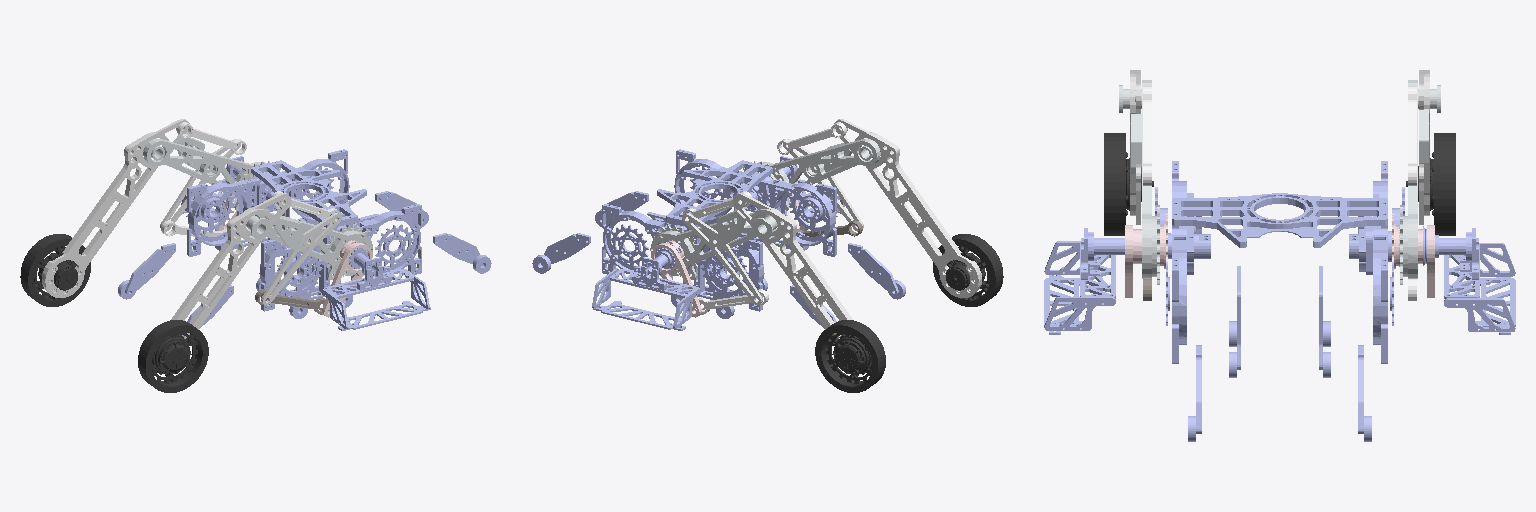
URDF robot description (rl_chassis_v14):
<?xml version='1.0' encoding='utf-8'?>
<!--
  由 tools/align_frame.py 生成，再由 tools/snap_pin_axes.py 把关节轴对齐到销孔，请勿手改；
  原始文件: rl_chassis_v14.urdf（sw2urdf 导出；和 v13 同一套机构、同样趴卧姿态，
  差别是底盘加长、部分零件质量变了，另外多了 4 个底下导轮 + 4 块前后滚轮支撑板）
  整体坐标系旋转对标 infantry_V4（x 前 / y 左 / z 上），坐标映射 (x,y,z)_old -> (-z, x, -y)；
  每个 link 还做了规范重投影：所有 joint axis = (0,0,1)，
  左右镜像体现在 joint origin 的 rpy 上（与 infantry_V4 一致）。

  v14 和 v13 的差别（导出层面 + 处理）：
  1) base_link 的 <inertial> 这次是对的（质心离网格质心 1.36 mm，不像 v13 差 133.6 mm），
     所以 fix-inertial-frame 那步只是确认一下，没有真的旋转；
  2) 有 3 处 <material><color rgba> 被导出成 0~1 之外的数（0.79216 0.81961 200.93333 1、
     200.9 0.91765 0.92941 1），repair_export.py 顺手夹回 0~1（只影响配色，不影响物理）；
  3) 质量：CAD 导出的是 base_link 15.8015 kg、曲柄 0.2169 kg、车轮 0.8041 kg
     （其它 link 与 v13 一致）。这些增量在 CAD 里是"覆盖质量"：质量加了、惯量没重算
     （车轮的惯量张量和 v13 一字不差）。按实机/对齐 COD 覆盖成：
       base_link            -> 11.5 kg   （COD 的底盘是 11 kg，v14 底盘更大所以取 11.5）
       Left/Right_wheel_link -> 0.5 kg   （CAD 里是 0.8041）
     其余保持 CAD 值（曲柄 0.2169 kg 等）→ 本文件总质量 14.1891 kg。
     惯量由 align_frame 按新质量用网格几何重算，不是照抄 CAD 那份旧张量；
     底盘反推密度 12071 kg/m^3、车轮 2267 kg/m^3。
  4) 电机力矩对齐 COD 参考模型：COD 的 actuator 是 gainprm=1 + ctrlrange="-3.14 3.14"，
     也就是 ±3.14 N·m，本文件的 MJCF 里 6 个 motor 都用这个值
     （make_mjcf_pins.py 的 hip-ctrl-range / wheel-ctrl-range 选项）。
     注意 <limit effort="40"> 是 sw2urdf 导出的 CAD 占位值，真正生效的是 MJCF 里的
     motor ctrlrange；两者不一致时以 MJCF 为准。

  snap_pin_axes 修正了 3 个装错位置的关节原点（和 v13 完全一样的三处）：
  Left_front_child1_joint（118.14 mm）、Left_front_child3_joint（115.00 mm）、
  Right_front_child3_joint（115.00 mm）；平移轴线到销孔的同时反向补偿了挂在这些 child 上的
  visual / inertial / 子关节 origin，网格世界位姿变化 0.0004 µm。
  左右轮关节被识别为「同轴孔对 6 个 = 螺栓孔圈」，按工具规则跳过（轮轴本来就在 joint 原点）。
-->
<robot name="rl_chassis_v14">
  <link name="base_link">
    <inertial>
      <origin xyz="-0.0045811 0.0018795 0.089619" rpy="-1.5707963 0 1.5707963" />
      <mass value="11.5" />
      <inertia ixx="0.1304715665" ixy="0.0005717279113" ixz="7.071904074e-05" iyy="0.3094293408" iyz="-0.000455934165" izz="0.229310218" />
    </inertial>
    <visual>
      <origin xyz="0 0 0" rpy="-1.5707963 0 1.5707963" />
      <geometry>
        <mesh filename="../meshes/base_link.STL" />
      </geometry>
      <material name="">
        <color rgba="0.79216 0.81961 1 1" />
      </material>
    </visual>
    <collision>
      <origin xyz="0 0 0" rpy="-1.5707963 0 1.5707963" />
      <geometry>
        <mesh filename="../meshes/base_link.STL" />
      </geometry>
    </collision>
  </link>
  <link name="Left_front_Link">
    <inertial>
      <origin xyz="-0.011742736 0.017072359 -0.020270063" rpy="5.754825e-06 3.026432e-06 2.1732963" />
      <mass value="0.21686" />
      <inertia ixx="0.0001227694631" ixy="1.623224184e-09" ixz="-7.059641474e-05" iyy="0.0003421733141" iyz="3.901429779e-09" izz="0.0003213102502" />
    </inertial>
    <visual>
      <origin xyz="0 0 0" rpy="5.754825e-06 3.026432e-06 2.1732963" />
      <geometry>
        <mesh filename="../meshes/Left_front_Link.STL" />
      </geometry>
      <material name="">
        <color rgba="1 0.91765 0.92941 1" />
      </material>
    </visual>
    <collision>
      <origin xyz="0 0 0" rpy="5.754825e-06 3.026432e-06 2.1732963" />
      <geometry>
        <mesh filename="../meshes/Left_front_Link.STL" />
      </geometry>
    </collision>
  </link>
  <joint name="Left_front_joint" type="continuous">
    <origin xyz="-0.001951 0.18034 0.11508" rpy="-1.5707963 0 0" />
    <parent link="base_link" />
    <child link="Left_front_Link" />
    <axis xyz="0 0 1" />
    <limit lower="-6.28" upper="6.28" effort="40" velocity="5" />
  </joint>
  <link name="Left_front_child1_Link">
    <inertial>
      <origin xyz="-0.0510632342 -0.0192546048 0.00482694112" rpy="-3.1415863 6.420339e-06 0.92789633" />
      <mass value="0.029932" />
      <inertia ixx="1.557063882e-05" ixy="-2.263560984e-05" ixz="2.427525431e-08" iyy="3.668099606e-05" iyz="1.546469317e-08" izz="5.176700028e-05" />
    </inertial>
    <visual>
      <origin xyz="-0.110540203 -0.0416875678 1.11701407e-09" rpy="-3.1415863 6.420339e-06 0.92789633" />
      <geometry>
        <mesh filename="../meshes/Left_front_child1_Link.STL" />
      </geometry>
      <material name="">
        <color rgba="1 1 1 1" />
      </material>
    </visual>
    <collision>
      <origin xyz="0 0 0" rpy="-3.1415863 6.420339e-06 0.92789633" />
      <geometry>
        <mesh filename="../meshes/Left_front_child1_Link.STL" />
      </geometry>
    </collision>
  </link>
  <joint name="Left_front_child1_joint" type="continuous">
    <origin xyz="-0.0566718068 0.0823955548 -0.0310817291" rpy="0 0 0" />
    <parent link="Left_front_Link" />
    <child link="Left_front_child1_Link" />
    <axis xyz="0 0 1" />
    <limit lower="-6.28" upper="6.28" effort="40" velocity="5" />
  </joint>
  <link name="Left_front_child2_Link">
    <inertial>
      <origin xyz="0.063596323 -0.065427111 0.002999522" rpy="-3.1415877 7.524413e-06 0.73260633" />
      <mass value="0.0288133993862777" />
      <inertia ixx="8.214804701e-05" ixy="-7.068548926e-06" ixz="-3.180628901e-18" iyy="3.579972347e-06" iyz="7.782655375e-19" izz="8.555513896e-05" />
    </inertial>
    <visual>
      <origin xyz="0 0 0" rpy="-3.1415877 7.524413e-06 0.73260633" />
      <geometry>
        <mesh filename="../meshes/Left_front_child2_Link.STL" />
      </geometry>
      <material name="">
        <color rgba="0.929411764705882 0.929411764705882 0.929411764705882 1" />
      </material>
    </visual>
    <collision>
      <origin xyz="0 0 0" rpy="-3.1415877 7.524413e-06 0.73260633" />
      <geometry>
        <mesh filename="../meshes/Left_front_child2_Link.STL" />
      </geometry>
    </collision>
  </link>
  <joint name="Left_front_child2_joint" type="continuous">
    <origin xyz="-0.110540085 -0.0416875678 0.0132380011" rpy="0 0 0" />
    <parent link="Left_front_child1_Link" />
    <child link="Left_front_child2_Link" />
    <axis xyz="0 0 1" />
    <limit lower="-6.28" upper="6.28" effort="40" velocity="5" />
  </joint>
  <link name="Left_front_child3_Link">
    <inertial>
      <origin xyz="-0.0507133032 -0.0270998882 0.00481012025" rpy="-3.1415888 8.130831e-06 0.59546633" />
      <mass value="0.0271962671135198" />
      <inertia ixx="1.409315869e-06" ixy="-4.205044139e-06" ixz="-1.159267409e-10" iyy="4.097506069e-05" iyz="2.995689338e-15" izz="4.194160262e-05" />
    </inertial>
    <visual>
      <origin xyz="-0.101427268 -0.0541987522 1.45224996e-09" rpy="-3.1415888 8.130831e-06 0.59546633" />
      <geometry>
        <mesh filename="../meshes/Left_front_child3_Link.STL" />
      </geometry>
      <material name="">
        <color rgba="1 1 1 1" />
      </material>
    </visual>
    <collision>
      <origin xyz="0 0 0" rpy="-3.1415888 8.130831e-06 0.59546633" />
      <geometry>
        <mesh filename="../meshes/Left_front_child3_Link.STL" />
      </geometry>
    </collision>
  </link>
  <joint name="Left_front_child3_joint" type="continuous">
    <origin xyz="0.131978169 -0.116021118 -0.0130000435" rpy="0 0 0" />
    <parent link="Left_front_child2_Link" />
    <child link="Left_front_child3_Link" />
    <axis xyz="0 0 1" />
    <limit lower="-6.28" upper="6.28" effort="40" velocity="5" />
  </joint>
  <link name="Left_rear_Link">
    <inertial>
      <origin xyz="-0.082649629 -0.04592898 0.0066881214" rpy="3.1415907 3.239727e-06 2.0615263" />
      <mass value="0.35601" />
      <inertia ixx="0.002268577746" ixy="-8.198736076e-05" ixz="-1.062242271e-05" iyy="0.0001513756827" iyz="-0.0001312013027" izz="0.002365071349" />
    </inertial>
    <visual>
      <origin xyz="0 0 0" rpy="3.1415907 3.239727e-06 2.0615263" />
      <geometry>
        <mesh filename="../meshes/Left_rear_Link.STL" />
      </geometry>
      <material name="">
        <color rgba="0.89804 0.91765 0.92941 1" />
      </material>
    </visual>
    <collision>
      <origin xyz="0 0 0" rpy="3.1415907 3.239727e-06 2.0615263" />
      <geometry>
        <mesh filename="../meshes/Left_rear_Link.STL" />
      </geometry>
    </collision>
  </link>
  <joint name="Left_rear_joint" type="continuous">
    <origin xyz="-0.001951 0.1495 0.11508" rpy="-1.5707963 0 0" />
    <parent link="base_link" />
    <child link="Left_rear_Link" />
    <axis xyz="0 0 1" />
    <limit lower="-6.28" upper="6.28" effort="40" velocity="5" />
  </joint>
  <link name="Left_rear_child1_link">
    <inertial>
      <origin xyz="-0.082577292 0.091896954 0.0054144866" rpy="3.141589 -1.109532e-06 0.73262633" />
      <mass value="0.186945149512527" />
      <inertia ixx="0.001780503202" ixy="9.495627152e-06" ixz="-4.310005701e-07" iyy="7.801261224e-05" iyz="-1.5991246e-06" izz="0.001854257787" />
    </inertial>
    <visual>
      <origin xyz="0 0 0" rpy="3.141589 -1.109532e-06 0.73262633" />
      <geometry>
        <mesh filename="../meshes/Left_rear_child1_link.STL" />
      </geometry>
      <material name="">
        <color rgba="0.929411764705882 0.929411764705882 0.929411764705882 1" />
      </material>
    </visual>
    <collision>
      <origin xyz="0 0 0" rpy="3.141589 -1.109532e-06 0.73262633" />
      <geometry>
        <mesh filename="../meshes/Left_rear_child1_link.STL" />
      </geometry>
    </collision>
  </link>
  <joint name="Left_rear_child1_joint" type="continuous">
    <origin xyz="-0.18962769 -0.101323 0.012999582" rpy="0 0 0" />
    <parent link="Left_rear_Link" />
    <child link="Left_rear_child1_link" />
    <axis xyz="0 0 1" />
    <limit lower="-6.28" upper="6.28" effort="40" velocity="5" />
  </joint>
  <link name="Left_wheel_link">
    <inertial>
      <origin xyz="-2.2151281e-05 0.00010400674 0.0079508997" rpy="3.1415896 -2.190991e-06 0.41197633" />
      <mass value="0.5" />
      <inertia ixx="0.0004729821256" ixy="-2.446112482e-07" ixz="-1.736782446e-07" iyy="0.0004745207459" iyz="8.835932851e-07" izz="0.0008143501484" />
    </inertial>
    <visual>
      <origin xyz="0 0 0" rpy="3.1415896 -2.190991e-06 0.41197633" />
      <geometry>
        <mesh filename="../meshes/Left_wheel_link.STL" />
      </geometry>
      <material name="">
        <color rgba="0.29804 0.29804 0.29804 1" />
      </material>
    </visual>
    <collision>
      <origin xyz="0 0 0" rpy="3.1415896 -2.190991e-06 0.41197633" />
      <geometry>
        <mesh filename="../meshes/Left_wheel_link.STL" />
      </geometry>
    </collision>
  </link>
  <joint name="Left_wheel_joint" type="continuous">
    <origin xyz="-0.16988146 0.18882882 0.017549083" rpy="0 0 0" />
    <parent link="Left_rear_child1_link" />
    <child link="Left_wheel_link" />
    <axis xyz="0 0 1" />
    <limit lower="-6.28" upper="6.28" effort="40" velocity="5" />
  </joint>
  <link name="Right_front_Link">
    <inertial>
      <origin xyz="-0.011421292 -0.01660543 -0.020417939" rpy="-3.1415869 -3.026432e-06 -2.1732963" />
      <mass value="0.21603" />
      <inertia ixx="0.0001223554749" ixy="3.76006896e-09" ixz="6.962158185e-05" iyy="0.0003381194784" iyz="-3.8689141e-09" izz="0.0003175063815" />
    </inertial>
    <visual>
      <origin xyz="0 0 0" rpy="-3.1415869 -3.026432e-06 -2.1732963" />
      <geometry>
        <mesh filename="../meshes/Right_front_Link.STL" />
      </geometry>
      <material name="">
        <color rgba="1 0.91765 0.92941 1" />
      </material>
    </visual>
    <collision>
      <origin xyz="0 0 0" rpy="-3.1415869 -3.026432e-06 -2.1732963" />
      <geometry>
        <mesh filename="../meshes/Right_front_Link.STL" />
      </geometry>
    </collision>
  </link>
  <joint name="Right_front_joint" type="continuous">
    <origin xyz="-0.001951 -0.18034 0.11508" rpy="1.5707963 0 0" />
    <parent link="base_link" />
    <child link="Right_front_Link" />
    <axis xyz="0 0 1" />
    <limit lower="-6.28" upper="6.28" effort="40" velocity="5" />
  </joint>
  <link name="Right_front_child1_Link">
    <inertial>
      <origin xyz="-0.051062582 0.019255671 0.00056183495" rpy="3.644242e-06 -5.345209e-06 -0.48089633" />
      <mass value="0.029932155912967" />
      <inertia ixx="1.869249863e-06" ixy="-5.950696695e-06" ixz="-1.61792798e-08" iyy="5.038228526e-05" iyz="-1.955590951e-09" izz="5.176728249e-05" />
    </inertial>
    <visual>
      <origin xyz="0 0 0" rpy="3.644242e-06 -5.345209e-06 -0.48089633" />
      <geometry>
        <mesh filename="../meshes/Right_front_child1_Link.STL" />
      </geometry>
      <material name="">
        <color rgba="0.647058823529412 0.619607843137255 0.588235294117647 1" />
      </material>
    </visual>
    <collision>
      <origin xyz="0 0 0" rpy="3.644242e-06 -5.345209e-06 -0.48089633" />
      <geometry>
        <mesh filename="../meshes/Right_front_child1_Link.STL" />
      </geometry>
    </collision>
  </link>
  <joint name="Right_front_child1_joint" type="continuous">
    <origin xyz="-0.056670323 -0.082392298 -0.026843697" rpy="0 0 0" />
    <parent link="Right_front_Link" />
    <child link="Right_front_child1_Link" />
    <axis xyz="0 0 1" />
    <limit lower="-6.28" upper="6.28" effort="40" velocity="5" />
  </joint>
  <link name="Right_front_child2_Link">
    <inertial>
      <origin xyz="0.063593006 0.065430293 0.0030004582" rpy="4.860472e-06 -4.269377e-06 -0.73255633" />
      <mass value="0.0288133993862776" />
      <inertia ixx="8.215270954e-05" ixy="-7.070698082e-06" ixz="1.942260341e-18" iyy="3.579396824e-06" iyz="1.369651242e-18" izz="8.555922597e-05" />
    </inertial>
    <visual>
      <origin xyz="0 0 0" rpy="4.860472e-06 -4.269377e-06 -0.73255633" />
      <geometry>
        <mesh filename="../meshes/Right_front_child2_Link.STL" />
      </geometry>
      <material name="">
        <color rgba="0.929411764705882 0.929411764705882 0.929411764705882 1" />
      </material>
    </visual>
    <collision>
      <origin xyz="0 0 0" rpy="4.860472e-06 -4.269377e-06 -0.73255633" />
      <geometry>
        <mesh filename="../meshes/Right_front_child2_Link.STL" />
      </geometry>
    </collision>
  </link>
  <joint name="Right_front_child2_joint" type="continuous">
    <origin xyz="-0.11054455 0.041687133 0.0089993214" rpy="0 0 0" />
    <parent link="Right_front_child1_Link" />
    <child link="Right_front_child2_Link" />
    <axis xyz="0 0 1" />
    <limit lower="-6.28" upper="6.28" effort="40" velocity="5" />
  </joint>
  <link name="Right_front_child3_Link">
    <inertial>
      <origin xyz="-0.0507145751 0.0270973494 0.00481091375" rpy="4.231168e-06 -4.89377e-06 -0.59541633" />
      <mass value="0.0271962671135198" />
      <inertia ixx="1.409315869e-06" ixy="-4.205044139e-06" ixz="1.15926741e-10" iyy="4.097506069e-05" iyz="-2.995688307e-15" izz="4.194160262e-05" />
    </inertial>
    <visual>
      <origin xyz="-0.101429821 0.0541936754 1.45211393e-09" rpy="4.231168e-06 -4.89377e-06 -0.59541633" />
      <geometry>
        <mesh filename="../meshes/Right_front_child3_Link.STL" />
      </geometry>
      <material name="">
        <color rgba="1 1 1 1" />
      </material>
    </visual>
    <collision>
      <origin xyz="0 0 0" rpy="4.231168e-06 -4.89377e-06 -0.59541633" />
      <geometry>
        <mesh filename="../meshes/Right_front_child3_Link.STL" />
      </geometry>
    </collision>
  </link>
  <joint name="Right_front_child3_joint" type="continuous">
    <origin xyz="0.131972411 0.116027715 -0.0129996765" rpy="0 0 0" />
    <parent link="Right_front_child2_Link" />
    <child link="Right_front_child3_Link" />
    <axis xyz="0 0 1" />
    <limit lower="-6.28" upper="6.28" effort="40" velocity="5" />
  </joint>
  <link name="Right_rear_Link">
    <inertial>
      <origin xyz="-0.08281308 0.04507729 0.006587592" rpy="-1.942134e-06 -3.239727e-06 -2.0615263" />
      <mass value="0.353607886629795" />
      <inertia ixx="0.002281412114" ixy="-4.932793972e-05" ixz="2.743251007e-06" iyy="0.0001377823173" iyz="0.0001292031872" izz="0.002366208616" />
    </inertial>
    <visual>
      <origin xyz="0 0 0" rpy="-1.942134e-06 -3.239727e-06 -2.0615263" />
      <geometry>
        <mesh filename="../meshes/Right_rear_Link.STL" />
      </geometry>
      <material name="">
        <color rgba="0.898039215686275 0.917647058823529 0.929411764705882 1" />
      </material>
    </visual>
    <collision>
      <origin xyz="0 0 0" rpy="-1.942134e-06 -3.239727e-06 -2.0615263" />
      <geometry>
        <mesh filename="../meshes/Right_rear_Link.STL" />
      </geometry>
    </collision>
  </link>
  <joint name="Right_rear_joint" type="continuous">
    <origin xyz="-0.001951 -0.1495 0.11508" rpy="1.5707963 0 0" />
    <parent link="base_link" />
    <child link="Right_rear_Link" />
    <axis xyz="0 0 1" />
    <limit lower="-6.28" upper="6.28" effort="40" velocity="5" />
  </joint>
  <link name="Right_rear_child1_Link">
    <inertial>
      <origin xyz="-0.08197858 -0.091366521 0.0054201682" rpy="-3.610631e-06 1.109532e-06 -0.73262633" />
      <mass value="0.187774529973075" />
      <inertia ixx="0.001791187434" ixy="8.959207369e-06" ixz="4.279880875e-07" iyy="7.836743079e-05" iyz="1.562033807e-06" izz="0.001865281435" />
    </inertial>
    <visual>
      <origin xyz="0 0 0" rpy="-3.610631e-06 1.109532e-06 -0.73262633" />
      <geometry>
        <mesh filename="../meshes/Right_rear_child1_Link.STL" />
      </geometry>
      <material name="">
        <color rgba="0.929411764705882 0.929411764705882 0.929411764705882 1" />
      </material>
    </visual>
    <collision>
      <origin xyz="0 0 0" rpy="-3.610631e-06 1.109532e-06 -0.73262633" />
      <geometry>
        <mesh filename="../meshes/Right_rear_child1_Link.STL" />
      </geometry>
    </collision>
  </link>
  <joint name="Right_rear_child1_joint" type="continuous">
    <origin xyz="-0.18962761 0.10132305 0.013000418" rpy="0 0 0" />
    <parent link="Right_rear_Link" />
    <child link="Right_rear_child1_Link" />
    <axis xyz="0 0 1" />
    <limit lower="-6.28" upper="6.28" effort="40" velocity="5" />
  </joint>
  <link name="Right_wheel_Link">
    <inertial>
      <origin xyz="-2.2099763e-05 -0.00010397585 0.0079509003" rpy="-3.076893e-06 2.190991e-06 -0.41197633" />
      <mass value="0.5" />
      <inertia ixx="0.0004729786592" ixy="-2.479087582e-07" ixz="1.575259608e-07" iyy="0.0004745269995" iyz="-8.975780804e-07" izz="0.0008143534155" />
    </inertial>
    <visual>
      <origin xyz="0 0 0" rpy="-3.076893e-06 2.190991e-06 -0.41197633" />
      <geometry>
        <mesh filename="../meshes/Right_wheel_Link.STL" />
      </geometry>
      <material name="">
        <color rgba="0.29804 0.29804 0.29804 1" />
      </material>
    </visual>
    <collision>
      <origin xyz="0 0 0" rpy="-3.076893e-06 2.190991e-06 -0.41197633" />
      <geometry>
        <mesh filename="../meshes/Right_wheel_Link.STL" />
      </geometry>
    </collision>
  </link>
  <joint name="Right_wheel_joint" type="continuous">
    <origin xyz="-0.16988134 -0.18882875 0.017550917" rpy="0 0 0" />
    <parent link="Right_rear_child1_Link" />
    <child link="Right_wheel_Link" />
    <axis xyz="0 0 1" />
    <limit lower="-6.28" upper="6.28" effort="40" velocity="5" />
  </joint>
</robot>

--- Facts derived from the render (not from the file) ---
3 views of the same robot in one strip: view 1: azimuth 30°, elevation 25°; view 2: azimuth 150°, elevation 25°; view 3: azimuth 270°, elevation 25° (orthographic).
Robot: rl_chassis_v14 — 15 links, 14 joints (14 continuous); root link base_link; default pose: every joint at zero.
Visible links, largest first — view 1: base_link, Left_rear_child1_link, Right_wheel_Link, Right_rear_child1_Link, Right_rear_Link, Left_rear_Link, Left_wheel_link, Right_front_child2_Link, Right_front_Link, Left_front_child2_Link, Left_front_child3_Link, Right_front_child1_Link; view 2: base_link, Right_rear_child1_Link, Left_wheel_link, Left_rear_child1_link, Left_rear_Link, Right_wheel_Link, Right_rear_Link, Left_front_child2_Link, Left_front_Link, Right_front_child2_Link, Right_front_child3_Link, Left_front_child1_Link; view 3: base_link, Left_wheel_link, Right_wheel_Link, Right_rear_Link, Left_rear_Link, Right_front_Link, Left_front_Link, Left_front_child3_Link, Right_front_child3_Link, Right_rear_child1_Link, Left_rear_child1_link.
Boxes of the visible links, box(x1,y1,x2,y2) form: base_link: box(118, 149, 491, 330); Left_rear_child1_link: box(42, 119, 189, 297); Right_wheel_Link: box(138, 320, 208, 392); Right_rear_child1_Link: box(171, 193, 291, 338); Right_rear_Link: box(243, 208, 372, 279); Left_rear_Link: box(143, 137, 280, 210); Left_wheel_link: box(20, 234, 90, 306); Right_front_child2_Link: box(261, 213, 341, 304); Right_front_Link: box(322, 229, 372, 317); Left_front_child2_Link: box(160, 139, 240, 231); Left_front_child3_Link: box(177, 122, 246, 154); Right_front_child1_Link: box(255, 289, 328, 314); base_link: box(532, 149, 905, 330); Right_rear_child1_Link: box(834, 119, 981, 297); Left_wheel_link: box(815, 320, 885, 392); Left_rear_child1_link: box(732, 193, 852, 338); Left_rear_Link: box(650, 208, 780, 279); Right_wheel_Link: box(933, 234, 1003, 306); Right_rear_Link: box(743, 138, 880, 210); Left_front_child2_Link: box(682, 213, 762, 304); Left_front_Link: box(651, 229, 701, 317); Right_front_child2_Link: box(783, 139, 863, 231); Right_front_child3_Link: box(777, 122, 846, 154); Left_front_child1_Link: box(698, 289, 768, 314); base_link: box(1044, 161, 1515, 441); Left_wheel_link: box(1406, 133, 1455, 235); Right_wheel_Link: box(1104, 133, 1153, 235); Right_rear_Link: box(1119, 80, 1159, 284); Left_rear_Link: box(1400, 80, 1440, 284); Right_front_Link: box(1125, 214, 1167, 297); Left_front_Link: box(1392, 214, 1434, 297); Left_front_child3_Link: box(1408, 86, 1416, 185); Right_front_child3_Link: box(1143, 86, 1151, 185); Right_rear_child1_Link: box(1130, 70, 1140, 215); Left_rear_child1_link: box(1419, 70, 1429, 215).
Bounding box of the posed robot: 0.7113 × 0.5494 × 0.2917 m (x, y, z).
15 mesh visuals loaded from 15 distinct referenced files (15 binary STL).
